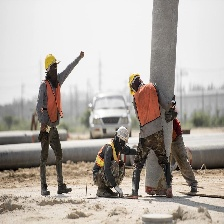helmet: (42, 53, 59, 73), (115, 125, 130, 147)
person: (127, 70, 177, 202), (35, 53, 73, 195), (94, 122, 129, 198)
vest: (133, 83, 161, 130), (45, 78, 64, 125)
